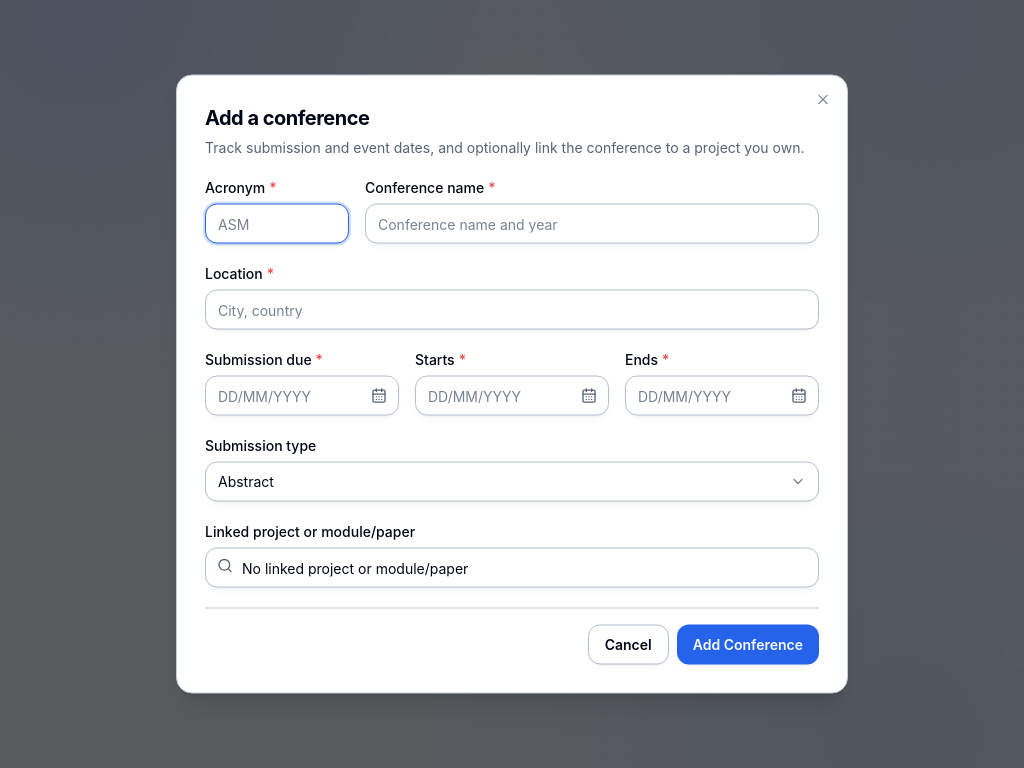
Scenario: ConferenceSubmissionDialog › lets a project be picked from the searchable dropdown
Focus the dropdown labelled "Linked project or module/paper". click: (512, 568)
box: [205,548,819,588]
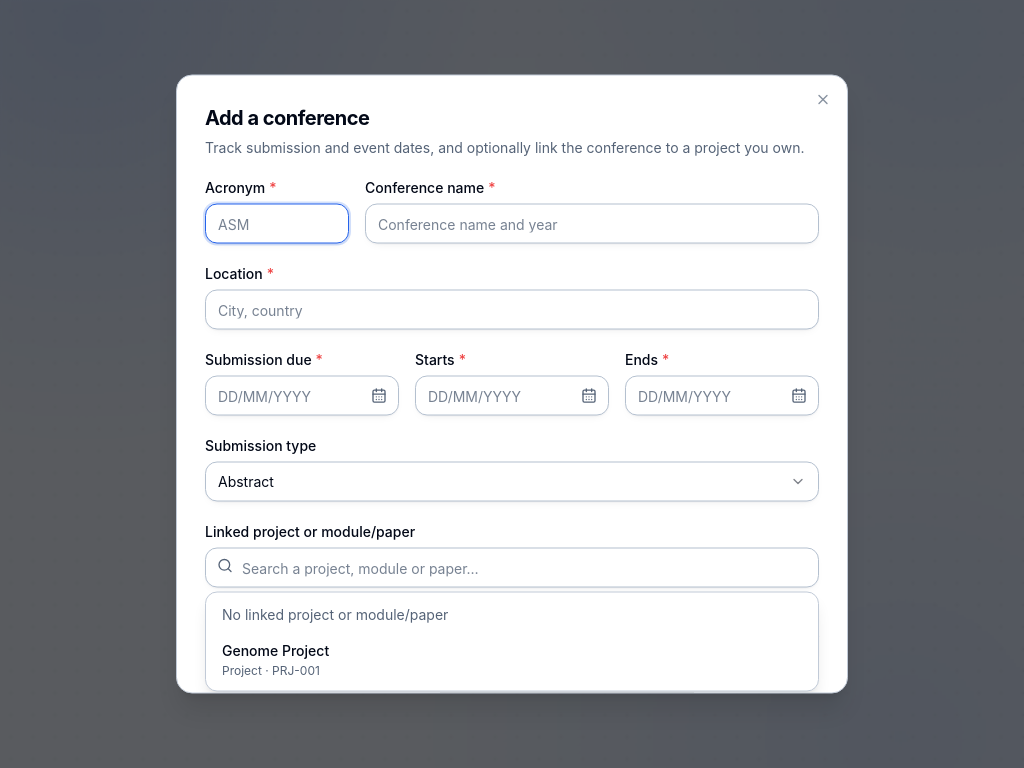
Click the option "Genome Project Project · PRJ-001". click: (276, 650)
box: [210,632,814,686]
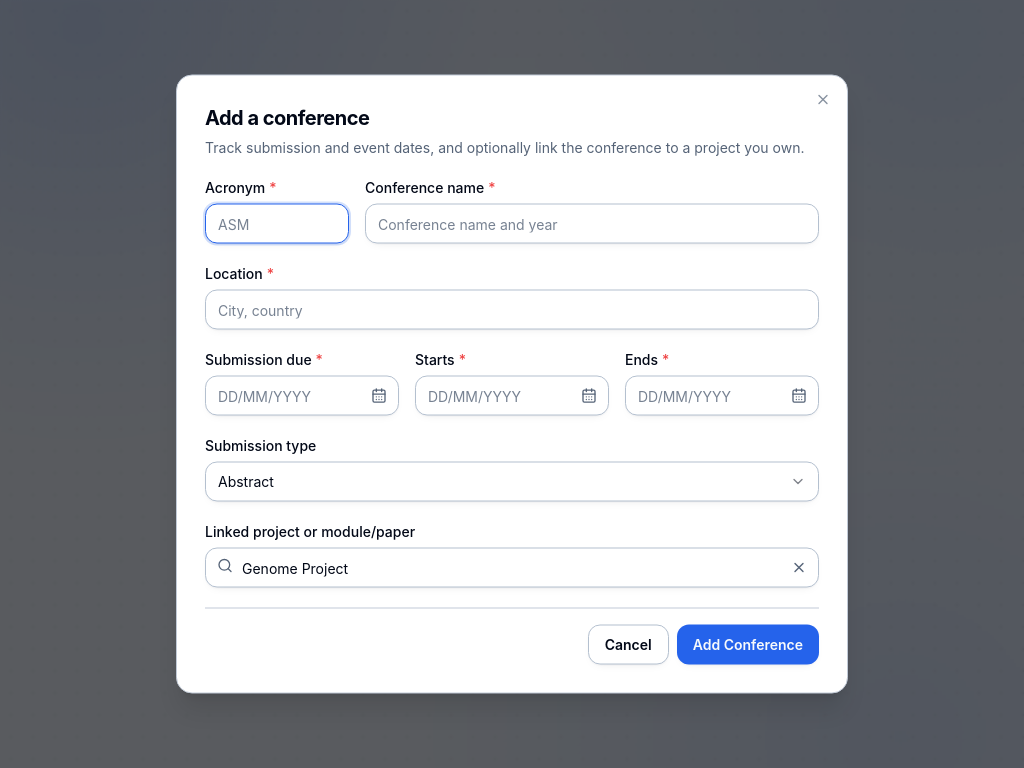
Check: the dropdown labelled "Linked project or module/paper" holds "Genome Project", box [205,548,819,588]
